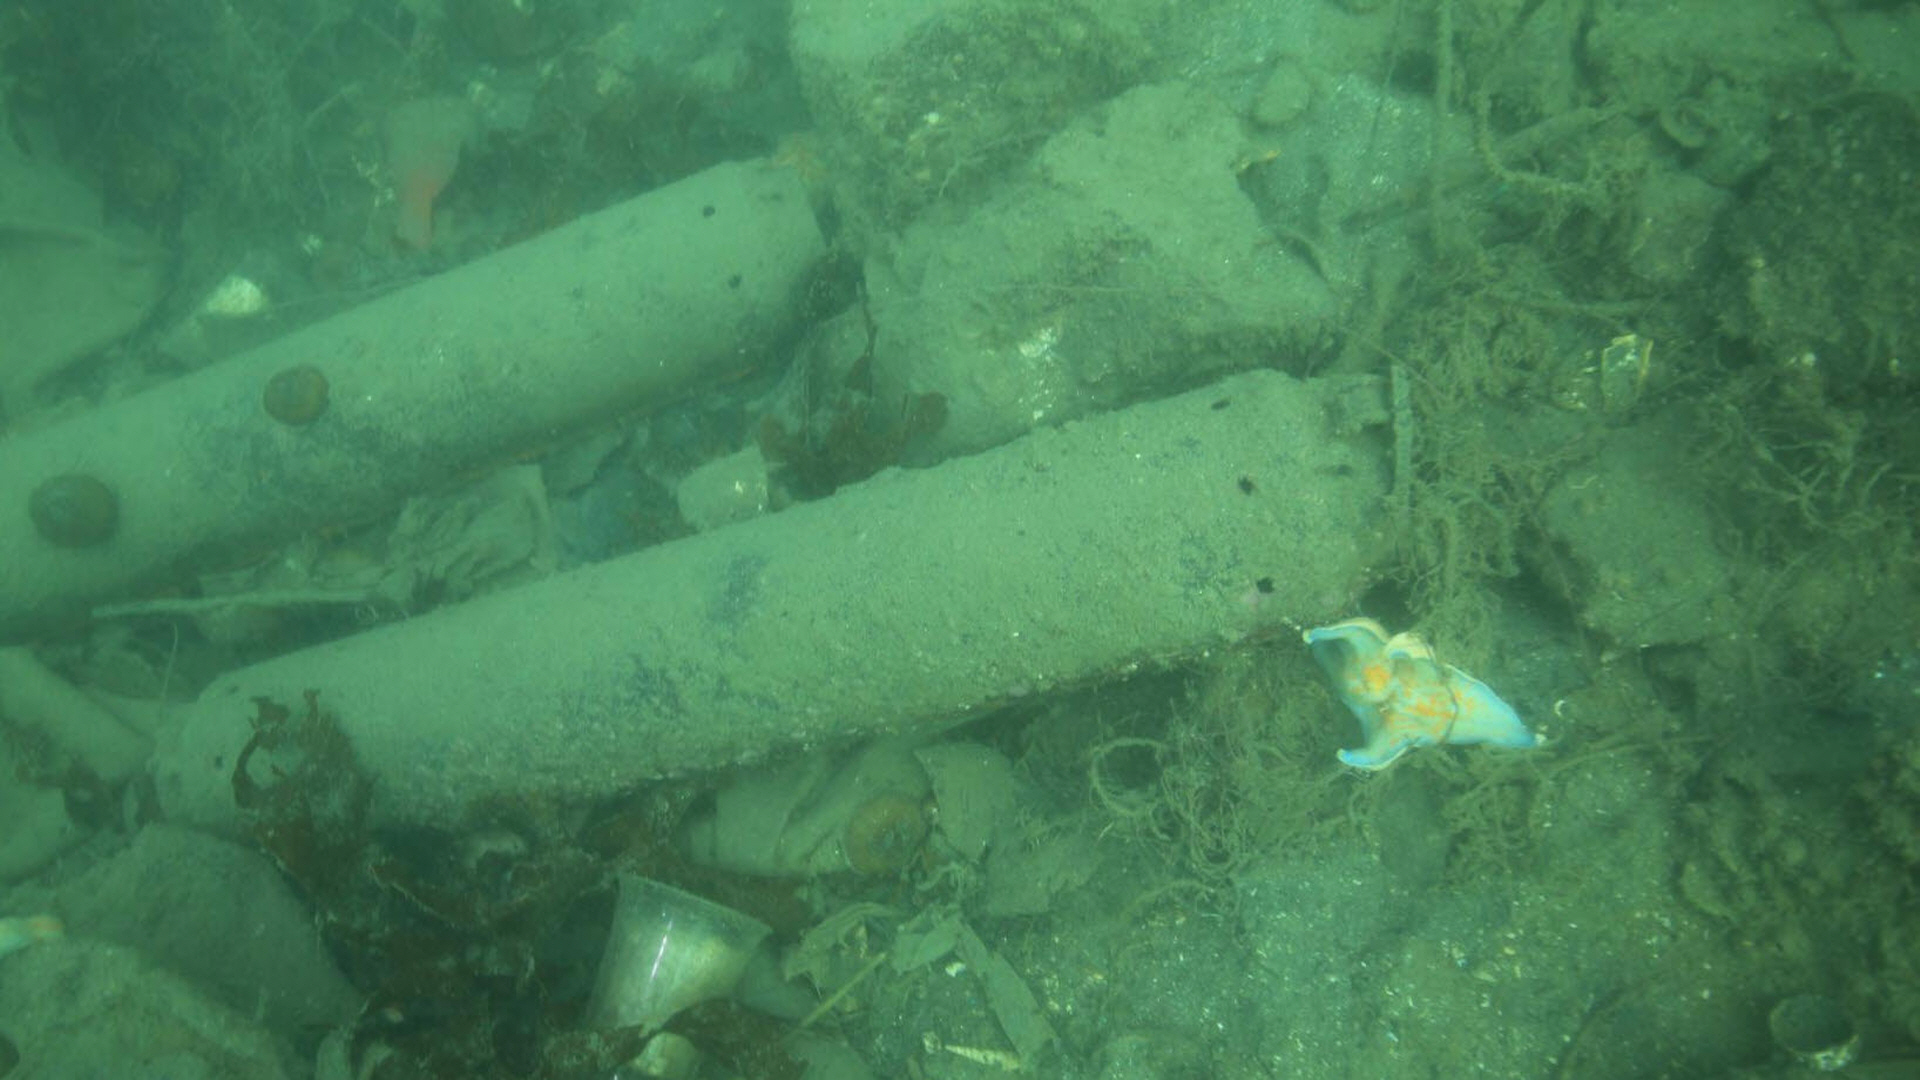eel fish trap: (149, 363, 1402, 825), (0, 158, 832, 621)
